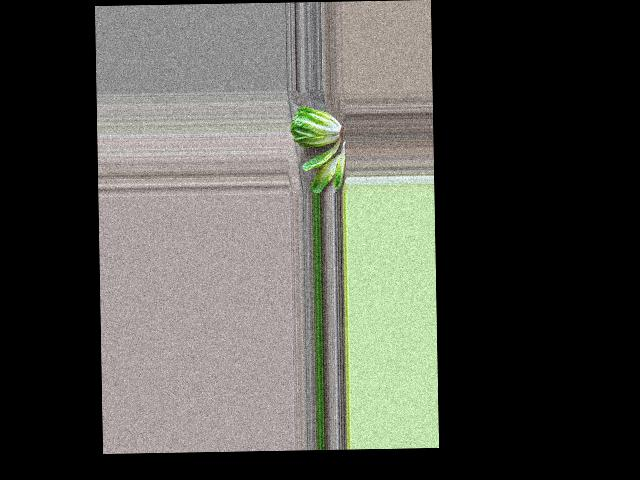lettuce: (290, 104, 340, 149)
